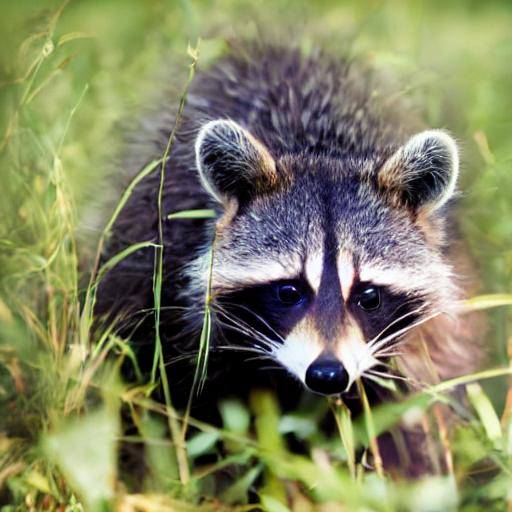raccoon: (73, 27, 468, 413)
